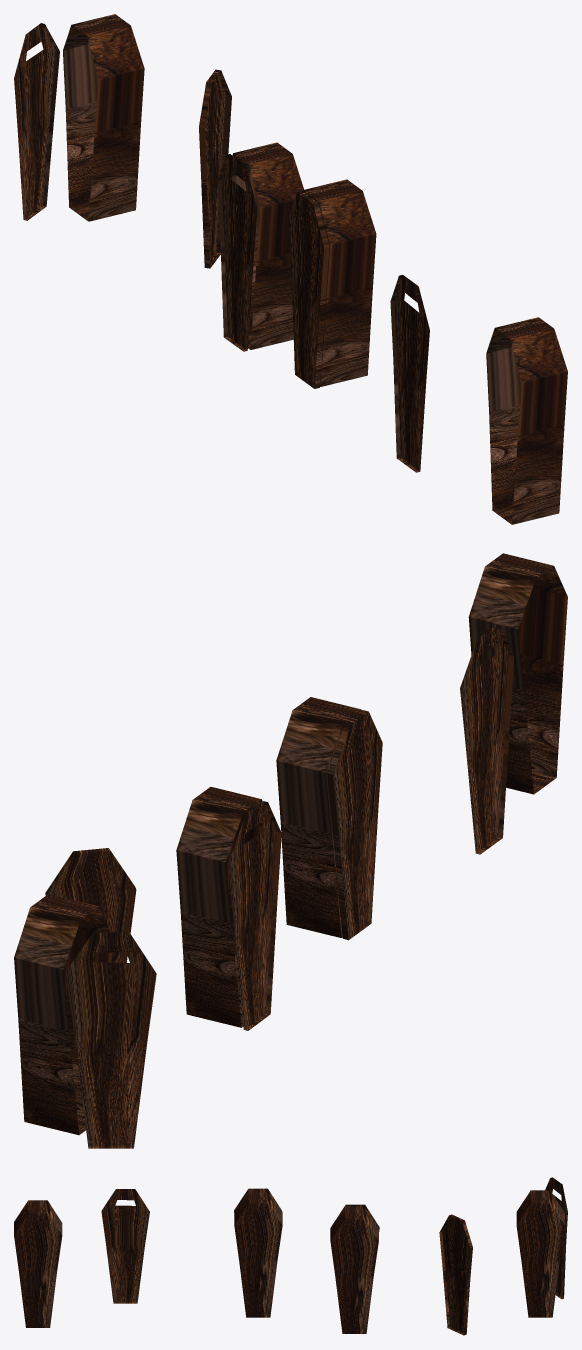
Rendered from Coffins .glb.
The picture shows the model from 3 angles, top to bottom: view 1: azimuth 30°, elevation 25°; view 2: azimuth 150°, elevation 25°; view 3: azimuth 270°, elevation 25°; orthographic projection. The views are drawn at different scales.
Visible parts, largest first — view 1: Coffin_Open With Lid_Open, Coffin_Open, Coffin_Closed, Coffin_Open With Lid_Closed, Coffin_WithLid_Open, Coffin_Open With Door.002, Coffin_Lid.001, Coffin_Lid_YesPeek, Coffin_Lid_NoPeek; view 2: Coffin_Open, Coffin_WithLid_Open, Coffin_Open With Lid_Open, Coffin_Open With Lid_Closed, Coffin_Closed, Coffin_Open With Door.002, Coffin_Lid_YesPeek, Coffin_Lid.001, Coffin_Lid_NoPeek; view 3: Coffin_Closed, Coffin_Open With Lid_Open, Coffin_Open, Coffin_Open With Lid_Closed, Coffin_Lid_YesPeek, Coffin_Lid_NoPeek, Coffin_WithLid_Open.
Boxes of the visible parts, bbox=[...] form: Coffin_Open With Lid_Open: bbox=[63, 14, 144, 221]; Coffin_Open: bbox=[486, 317, 567, 524]; Coffin_Closed: bbox=[303, 179, 376, 386]; Coffin_Open With Lid_Closed: bbox=[231, 142, 303, 349]; Coffin_WithLid_Open: bbox=[14, 23, 59, 220]; Coffin_Open With Door.002: bbox=[288, 191, 329, 388]; Coffin_Lid.001: bbox=[217, 154, 257, 351]; Coffin_Lid_YesPeek: bbox=[390, 275, 429, 472]; Coffin_Lid_NoPeek: bbox=[199, 69, 231, 268]; Coffin_Open: bbox=[468, 553, 567, 794]; Coffin_WithLid_Open: bbox=[65, 932, 156, 1148]; Coffin_Open With Lid_Open: bbox=[14, 894, 112, 1135]; Coffin_Open With Lid_Closed: bbox=[176, 787, 263, 1027]; Coffin_Closed: bbox=[276, 697, 361, 937]; Coffin_Open With Door.002: bbox=[327, 710, 382, 940]; Coffin_Lid_YesPeek: bbox=[460, 625, 514, 854]; Coffin_Lid.001: bbox=[228, 801, 281, 1030]; Coffin_Lid_NoPeek: bbox=[45, 848, 136, 962]; Coffin_Closed: bbox=[234, 1190, 282, 1317]; Coffin_Open With Lid_Open: bbox=[516, 1190, 564, 1317]; Coffin_Open: bbox=[14, 1200, 62, 1327]; Coffin_Open With Lid_Closed: bbox=[330, 1206, 378, 1333]; Coffin_Lid_YesPeek: bbox=[101, 1189, 149, 1303]; Coffin_Lid_NoPeek: bbox=[439, 1214, 472, 1335]; Coffin_WithLid_Open: bbox=[545, 1177, 567, 1299].
Size of the model in its own units: 4.62 by 5.82 by 22.91.
Materials: 1 (1 with a texture image).
